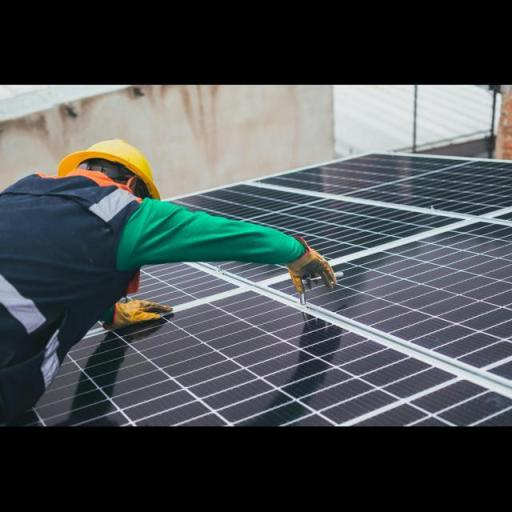Person: (0, 112, 316, 425)
gloves: (269, 223, 350, 300), (106, 290, 183, 336)
helmet: (49, 131, 178, 205)
